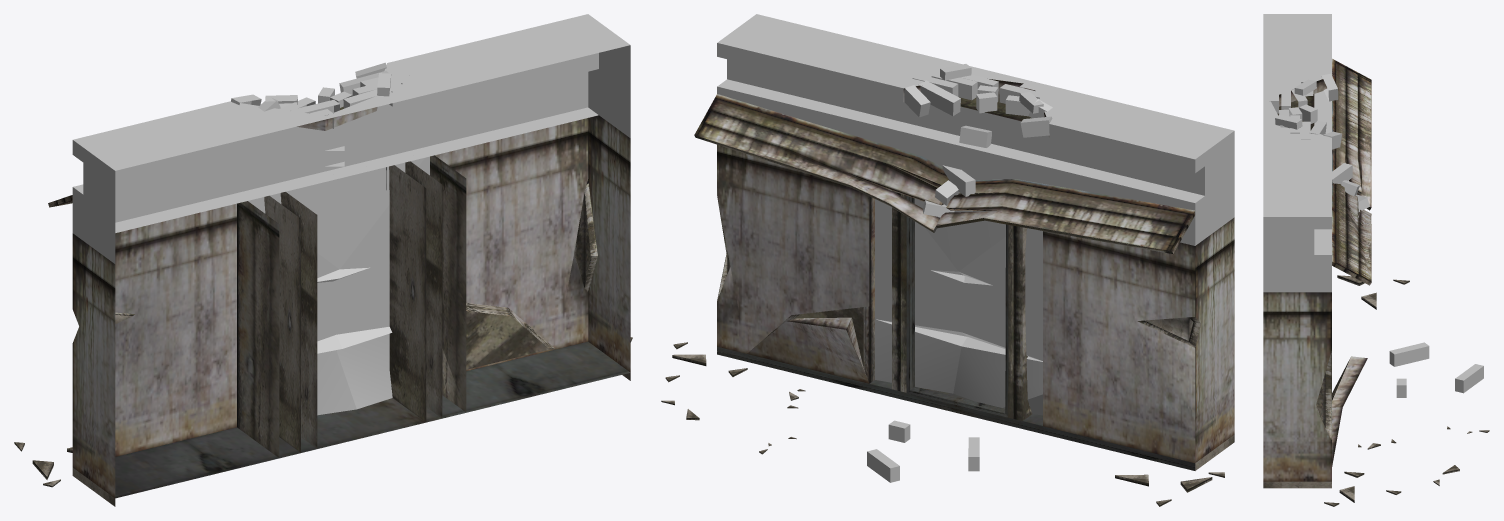
The model's file is Store_front_9_A.fbx.
The picture shows the model from 3 angles, left to right: view 1: azimuth 30°, elevation 25°; view 2: azimuth 150°, elevation 25°; view 3: azimuth 270°, elevation 25°; orthographic projection. The views are drawn at different scales.
Visible parts, largest first — view 1: Store_front_9_A; view 2: Store_front_9_A; view 3: Store_front_9_A.
Boxes of the visible parts, bbox=[...] form: Store_front_9_A: bbox=[14, 14, 632, 506]; Store_front_9_A: bbox=[661, 14, 1234, 506]; Store_front_9_A: bbox=[1263, 14, 1489, 506].
Size of the model in its own units: 804 by 451 by 330.
